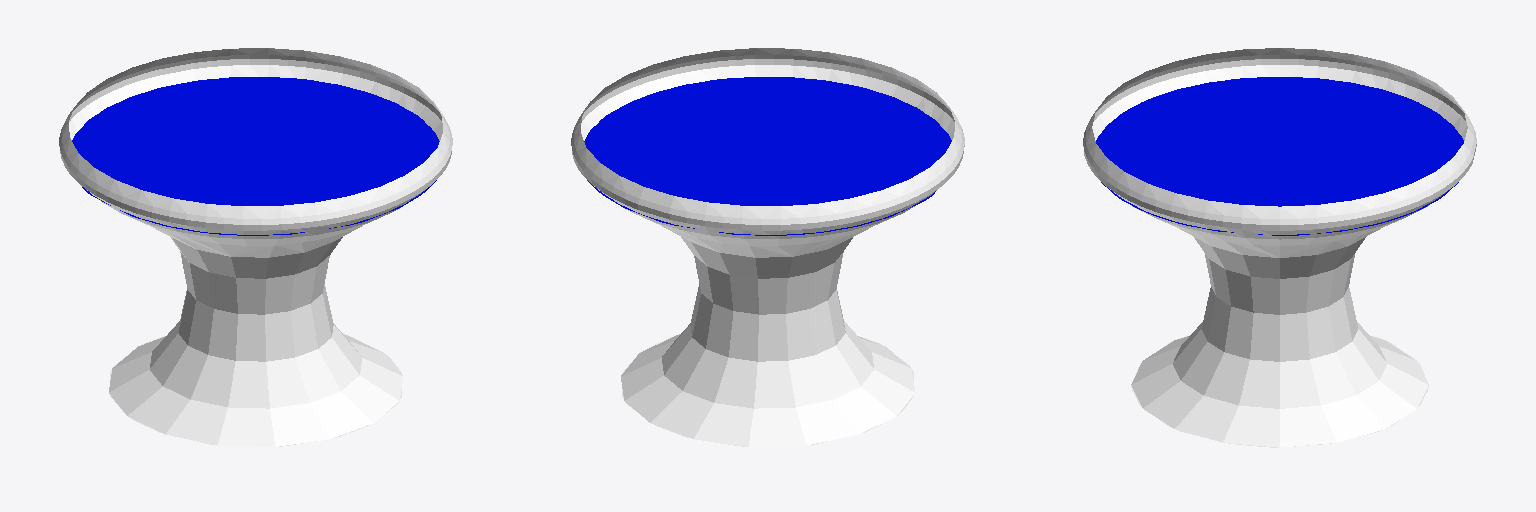
File: fountain.obj
3 views of the same model, side by side, from view 1: azimuth 30°, elevation 25°; view 2: azimuth 150°, elevation 25°; view 3: azimuth 270°, elevation 25° (orthographic).
Visible parts, largest first — view 1: nurbsToPoly1, nurbsToPoly3; view 2: nurbsToPoly1, nurbsToPoly3; view 3: nurbsToPoly1, nurbsToPoly3.
Boxes of the visible parts, x1,y1,x2,y2 form: nurbsToPoly1: [59, 48, 452, 446]; nurbsToPoly3: [72, 77, 439, 235]; nurbsToPoly1: [571, 48, 964, 446]; nurbsToPoly3: [584, 77, 951, 235]; nurbsToPoly1: [1083, 48, 1476, 447]; nurbsToPoly3: [1096, 77, 1463, 235].
Bounding box in the file's own units: 12.48 × 9 × 12.48.